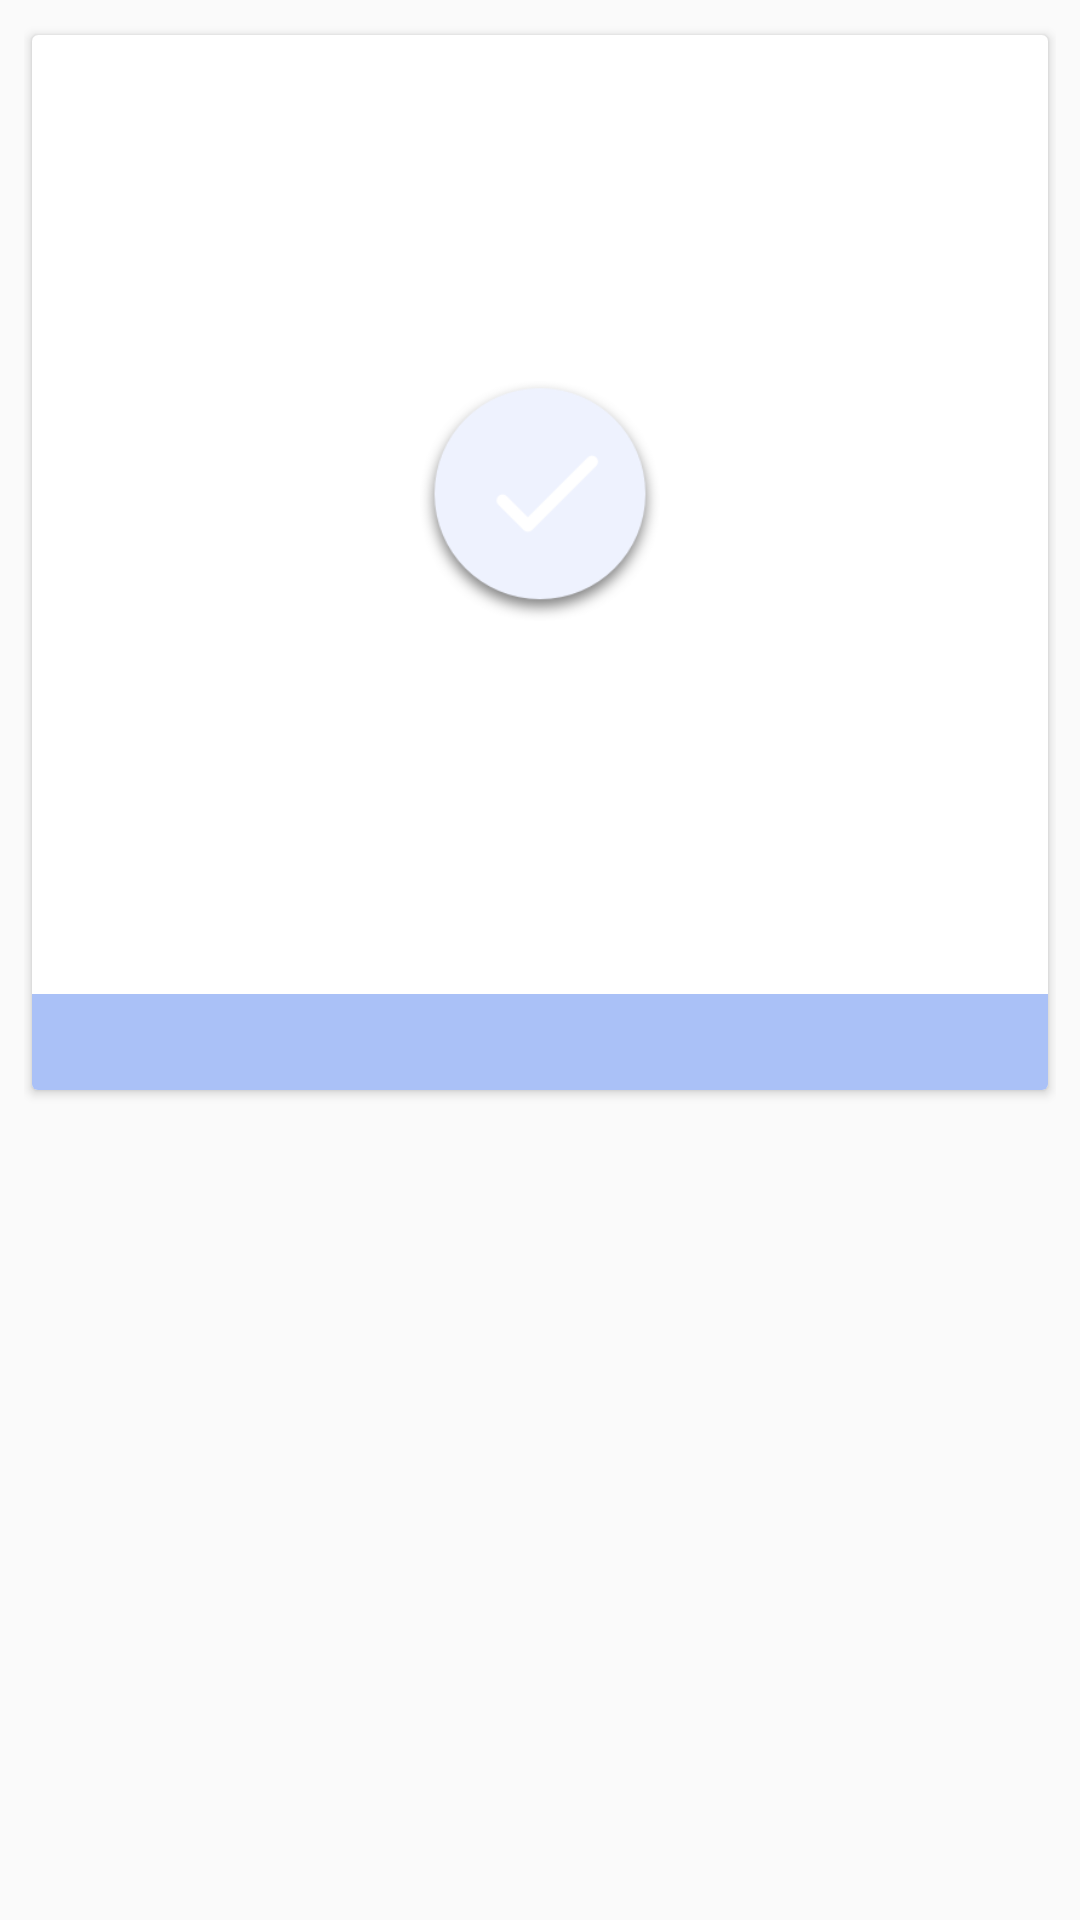

Point at icon controls on the screen. Image size 1080 x 1920, points as (x=x, y=y).
checkmark: (x=540, y=501)
